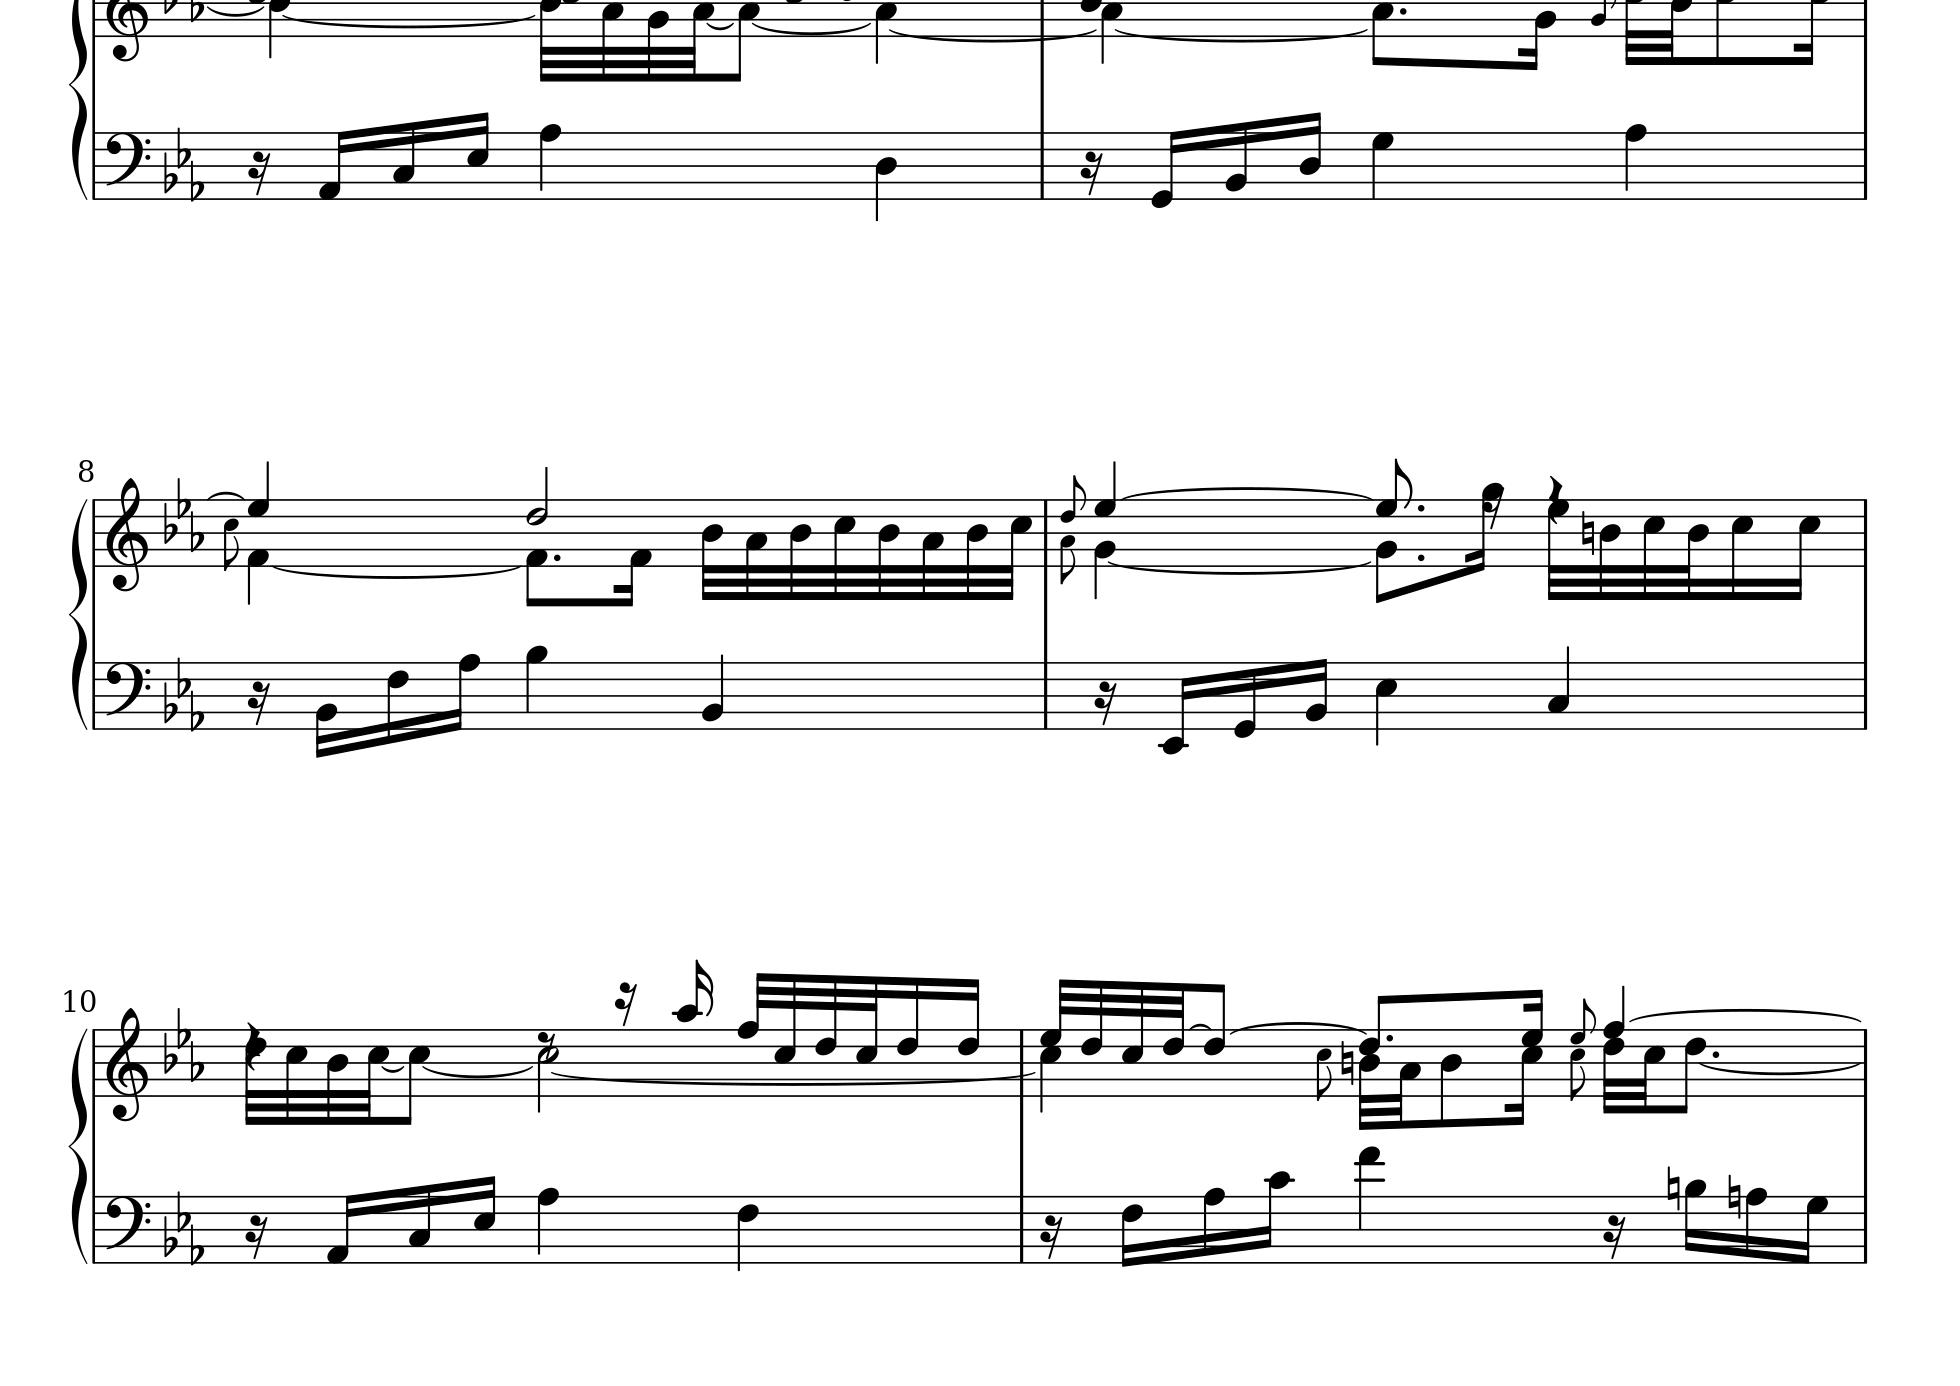0: (78, 984, 97, 1015)
1: (61, 985, 76, 1015)
16_-2: (1158, 660, 1194, 754)
16_0: (1149, 127, 1183, 208), (1231, 660, 1260, 739)
16_1: (616, 496, 652, 607), (324, 1192, 358, 1264), (316, 127, 349, 201)
16_10: (672, 958, 709, 1099), (1258, 1168, 1291, 1264)
16_2: (313, 660, 337, 757), (1224, 120, 1251, 201), (1303, 655, 1329, 730)
16_3: (406, 1182, 432, 1264), (391, 120, 417, 199)
16_4: (1299, 109, 1323, 201)
16_5: (1788, 496, 1822, 601), (1729, 496, 1755, 601), (472, 1171, 498, 1264), (466, 109, 490, 199)
16_5_7: (1506, 988, 1548, 1126)
16_6: (895, 973, 922, 1099), (955, 976, 982, 1099), (385, 658, 409, 745), (1120, 1192, 1144, 1269)
16_7: (1797, 1192, 1828, 1264)
16_8: (445, 652, 480, 733), (1201, 1186, 1225, 1264), (1744, 1185, 1767, 1264)
16_9: (1683, 1177, 1707, 1266)
32_3: (1390, 1026, 1422, 1129), (744, 496, 769, 601), (919, 496, 945, 601)
32_4: (1680, 496, 1710, 601), (787, 496, 813, 603), (876, 496, 901, 603), (964, 496, 990, 601), (700, 496, 724, 603), (1599, 496, 1623, 601), (325, 1026, 349, 1126)
32_5: (1000, 496, 1033, 601), (772, 970, 798, 1098), (357, 1027, 390, 1125), (853, 973, 879, 1099), (1120, 978, 1146, 1098), (1635, 1027, 1666, 1113), (1641, 496, 1666, 601), (283, 1026, 309, 1126), (832, 496, 856, 601)
32_6: (813, 972, 840, 1099), (1080, 978, 1105, 1099), (1161, 979, 1186, 1098), (241, 1020, 267, 1128)
32_8: (735, 969, 766, 1096)
4_13: (1353, 1144, 1384, 1267)
4_1_7: (244, 460, 268, 607)
4_2: (700, 652, 727, 732)
4_2_7: (1092, 463, 1117, 594)
4_3: (1546, 643, 1572, 730)
4_4: (873, 130, 898, 222)
4_5: (1374, 660, 1398, 748)
4_6: (735, 1192, 760, 1273)
4_7: (1371, 130, 1395, 199)
4_8: (537, 121, 562, 201), (535, 1183, 559, 1264), (1623, 121, 1647, 199)
4_9: (523, 643, 549, 730)
8: (76, 454, 94, 483)
8_2_7: (1375, 457, 1413, 604)
8_4: (1440, 1027, 1462, 1129)
8_5: (400, 1027, 430, 1126)
8_6: (1203, 981, 1227, 1099), (1675, 1026, 1707, 1116)
Brace: (67, 1024, 90, 1264), (69, 495, 90, 730), (67, 1, 88, 199)
E_F: (160, 124, 205, 202), (160, 654, 205, 732), (160, 1188, 205, 1264), (162, 1006, 205, 1083), (162, 475, 204, 550)
Fclef: (102, 658, 151, 730), (102, 1192, 151, 1264), (103, 129, 151, 199)
Gclef: (103, 1005, 148, 1123), (103, 475, 148, 592)
Natural: (1665, 1164, 1681, 1213), (1341, 1038, 1356, 1087), (1726, 1171, 1741, 1221), (1581, 508, 1596, 556)
Rests16: (1038, 1212, 1065, 1261), (1092, 679, 1119, 726), (1482, 481, 1506, 532), (613, 979, 639, 1027), (247, 148, 271, 196), (1080, 148, 1104, 196), (1602, 1213, 1626, 1261), (247, 679, 271, 726), (244, 1213, 268, 1258)
Rests4: (1545, 474, 1567, 529)
Single_barline: (1014, 1027, 1032, 1096), (1858, 1029, 1875, 1096), (1035, 130, 1051, 196), (1857, 132, 1873, 198), (1038, 499, 1054, 565), (1857, 499, 1873, 565), (1038, 661, 1054, 727), (1857, 1195, 1873, 1261), (1857, 663, 1873, 727), (1014, 1195, 1030, 1260), (88, 1027, 102, 1096), (88, 130, 102, 198), (88, 499, 102, 565), (88, 661, 102, 727), (88, 1194, 100, 1261)
Slur: (550, 1069, 1038, 1087), (1108, 559, 1369, 577), (1113, 25, 1365, 43), (273, 565, 522, 580), (1123, 484, 1372, 499), (1630, 1008, 1860, 1021), (889, 28, 1098, 42), (1231, 1021, 1368, 1035), (418, 1063, 534, 1078), (1698, 1062, 1861, 1072), (751, 21, 873, 34), (207, 3, 265, 16), (207, 487, 244, 501), (378, 1063, 406, 1075), (703, 22, 736, 31), (1188, 1021, 1215, 1030)
dot: (550, 550, 565, 564), (1396, 4, 1410, 18), (1383, 1030, 1396, 1044), (1414, 501, 1428, 513), (1414, 550, 1428, 562), (1710, 1047, 1722, 1060)
